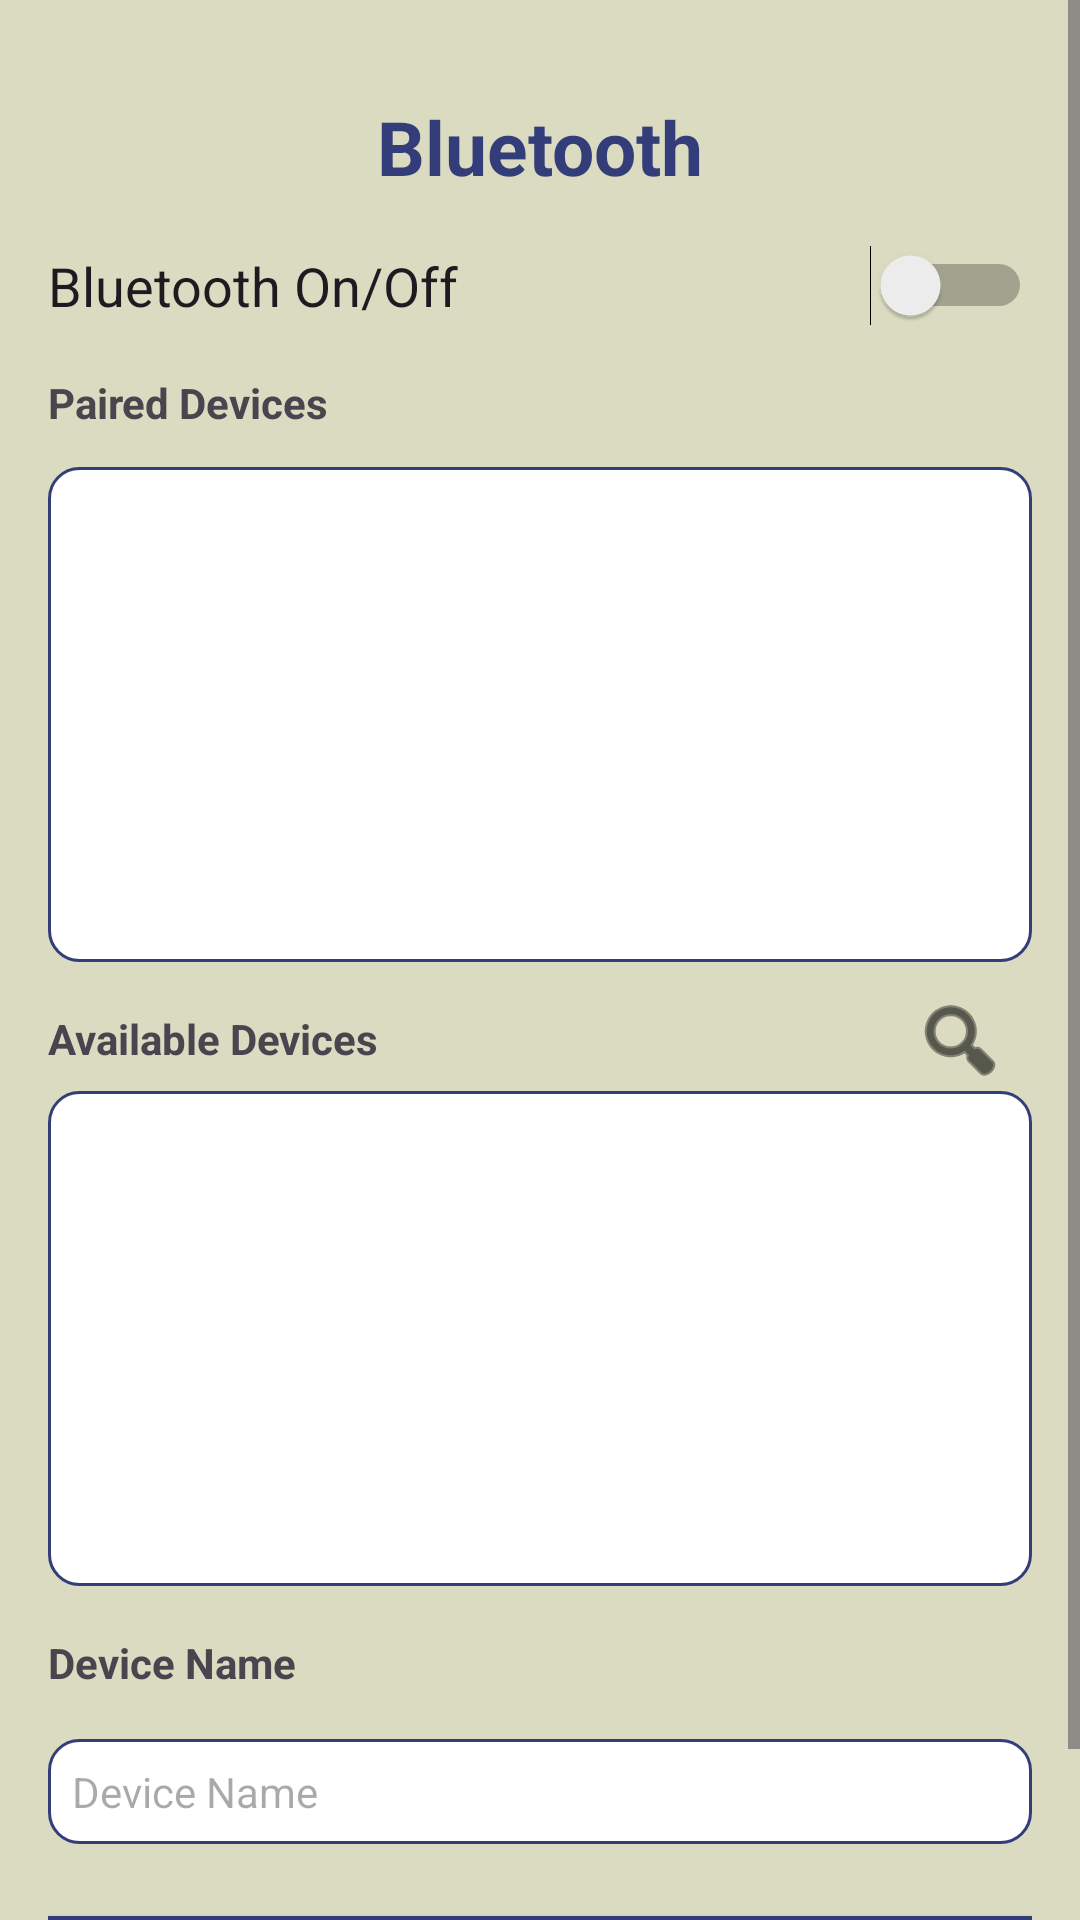

Where icons sit on this 1080px×1920px app screen, as (x1=x1, y1=y1, x2=x2, y2=y2):
search: (x1=924, y1=1005, x2=995, y2=1076)
